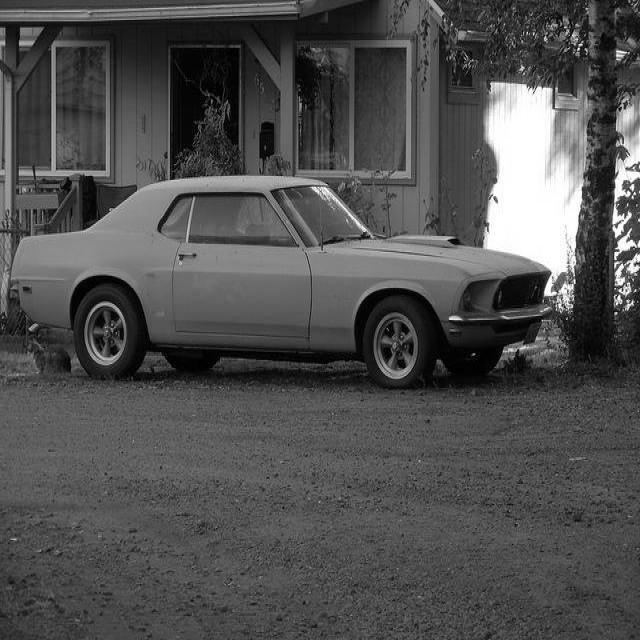vehicle: (13, 173, 551, 389)
